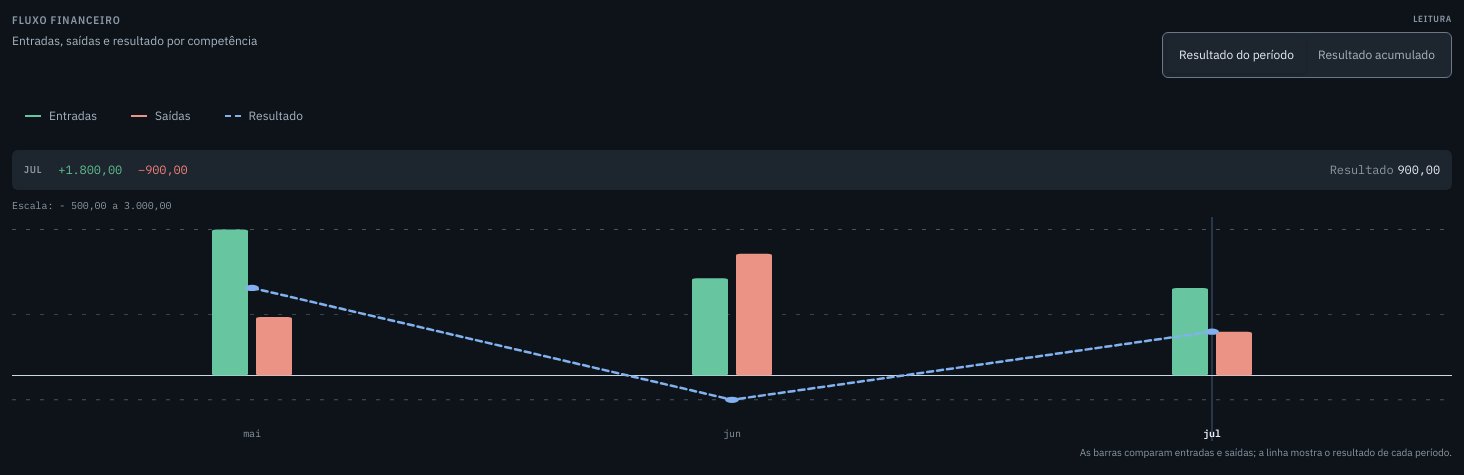
Scenario: GraficoFluxo › mantém os dois modos disponíveis quando todos os meses da janela têm dados
Click the button "Resultado acumulado": (1376, 54) [1306,36,1447,72]
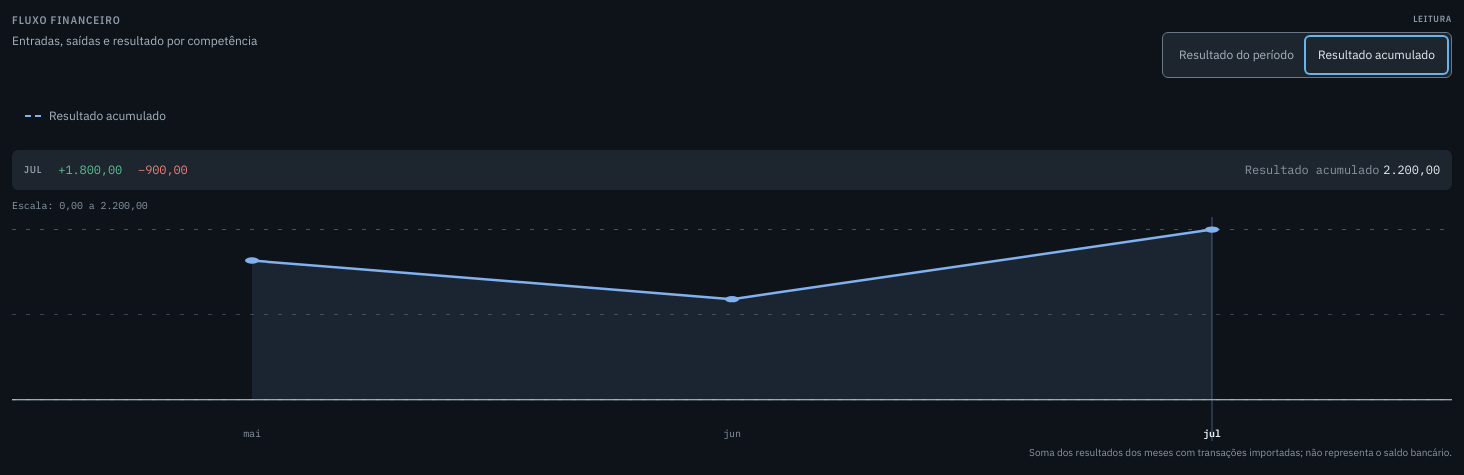
Check: the picture named "resultado acumulado" is shown, box [12,216,1452,440]
